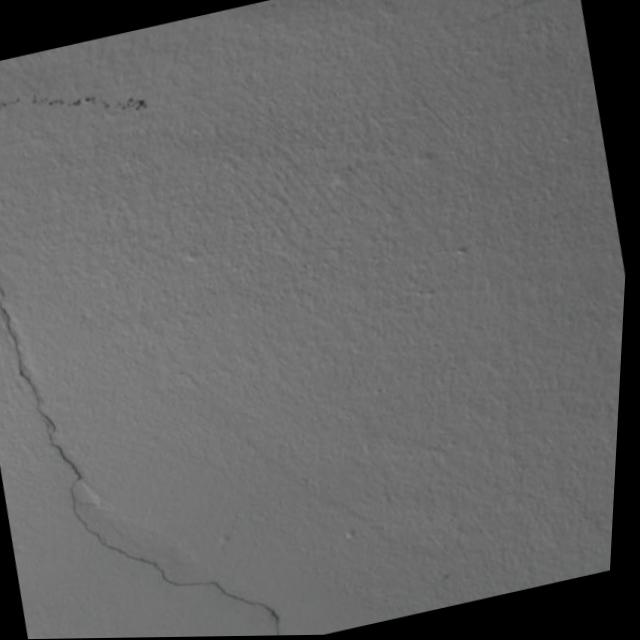Crack: (0, 198, 333, 640)
